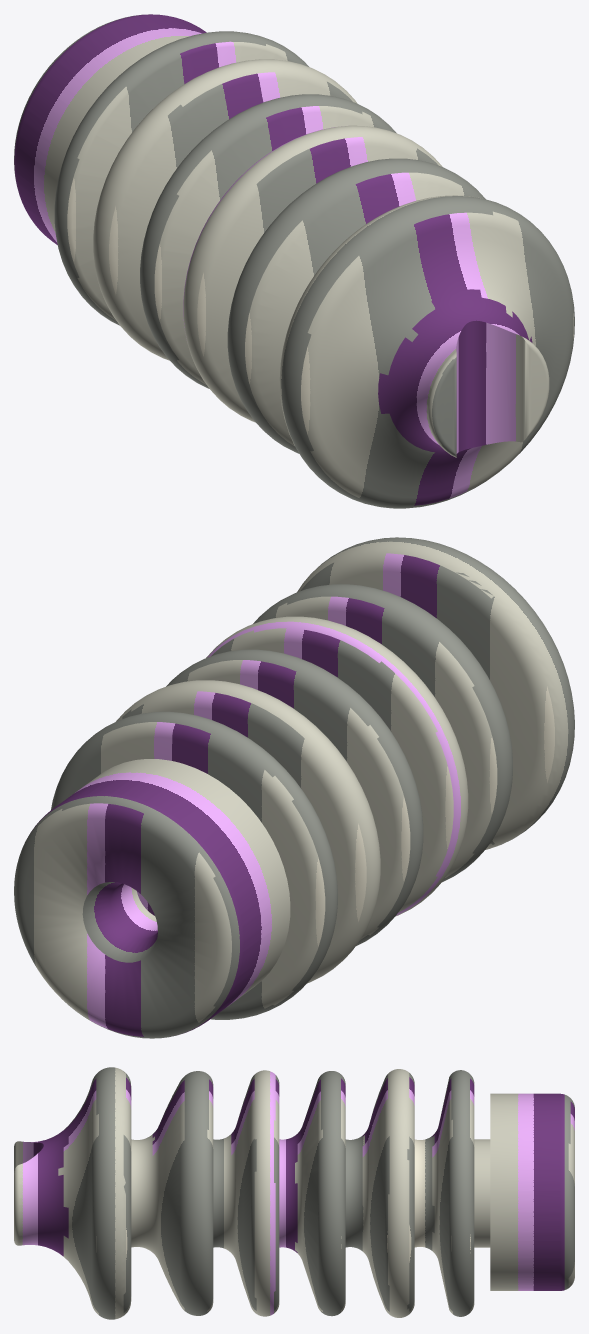
File: terminal_ehv.obj
3 views of the same model, one above another, from view 1: azimuth 30°, elevation 25°; view 2: azimuth 150°, elevation 25°; view 3: azimuth 270°, elevation 25° (orthographic). The views are drawn at different scales.
Visible parts, largest first — view 1: Aislador_de_Porcelana_Tipo_Poste_22PDPG1; view 2: Aislador_de_Porcelana_Tipo_Poste_22PDPG1; view 3: Aislador_de_Porcelana_Tipo_Poste_22PDPG1.
Part boxes in pixels (box(x1,y1,x2,y2)): Aislador_de_Porcelana_Tipo_Poste_22PDPG1: box(14, 14, 574, 508); Aislador_de_Porcelana_Tipo_Poste_22PDPG1: box(14, 537, 574, 1038); Aislador_de_Porcelana_Tipo_Poste_22PDPG1: box(14, 1067, 574, 1319).
Bounding box in the file's own units: 450 × 450 × 1000.
